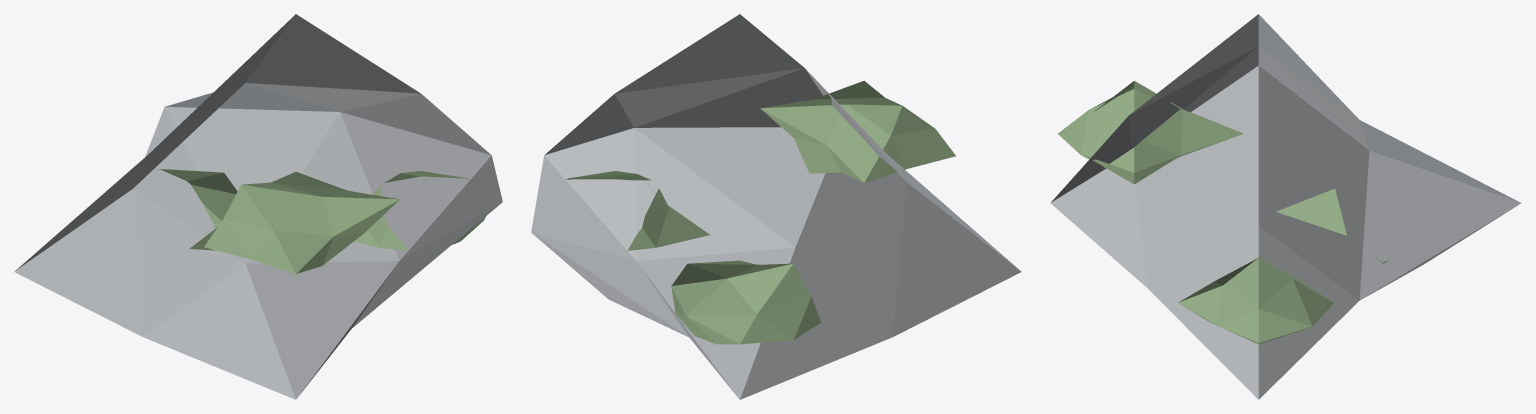
The model's file is moss_rock_v07.glb.
3 views of the same model, side by side, from view 1: azimuth 30°, elevation 25°; view 2: azimuth 150°, elevation 25°; view 3: azimuth 270°, elevation 25° (orthographic).
Parts seen in each view (by area): view 1: lod0; view 2: lod0; view 3: lod0.
Part boxes in pixels (x1,y1,x2,y2): lod0: (14, 14, 502, 399); lod0: (531, 14, 1021, 399); lod0: (1050, 14, 1521, 399).
Size of what is drawn, in the model's own units: 1.07 by 0.8157 by 0.9027.
